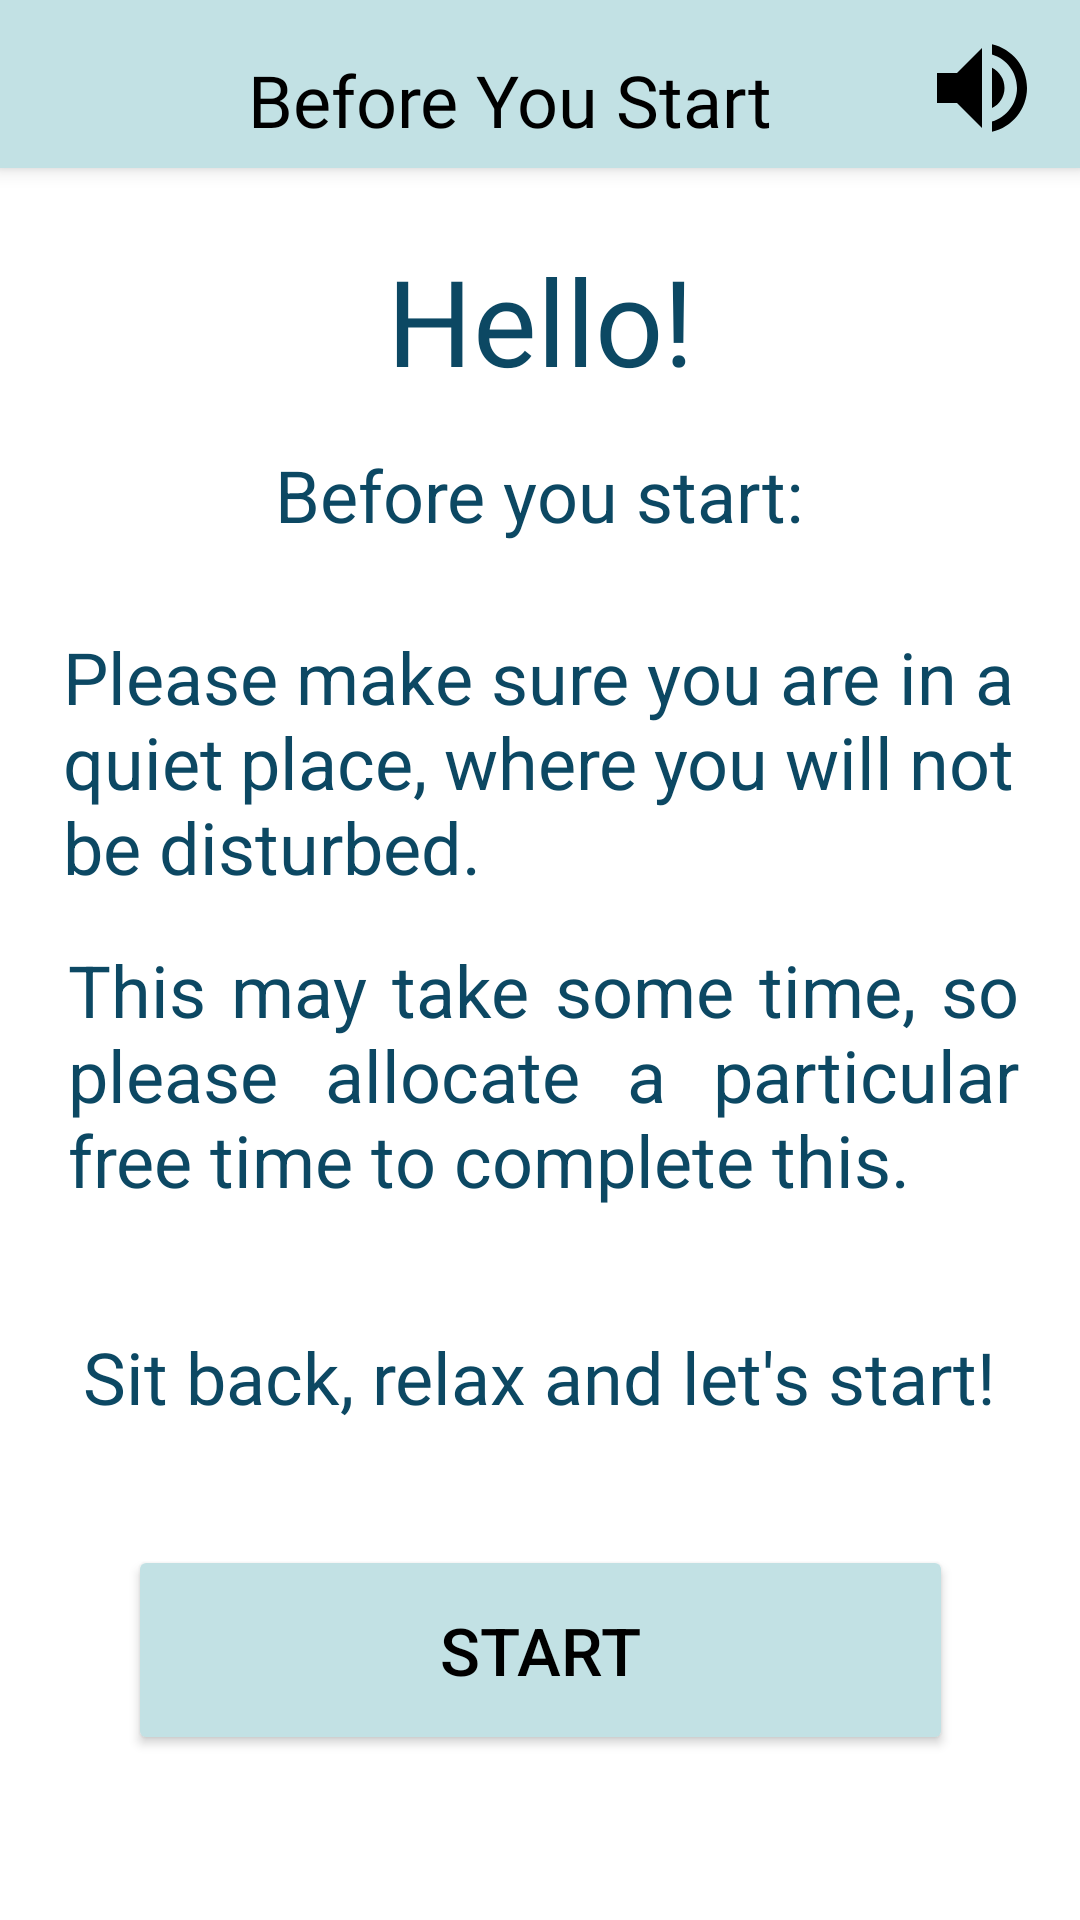

Icons on this 1080px x 1920px Android screen, each with its box as (x1, y1, x2, y2):
speak: (937, 44, 1027, 132)
